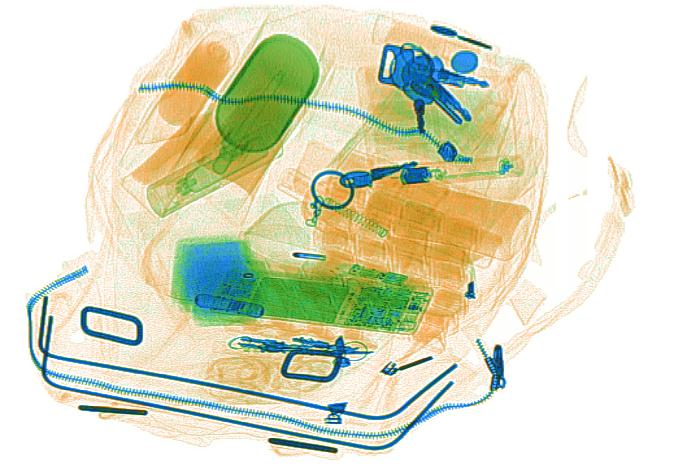USBFlashDisk: (344, 259, 412, 287)
